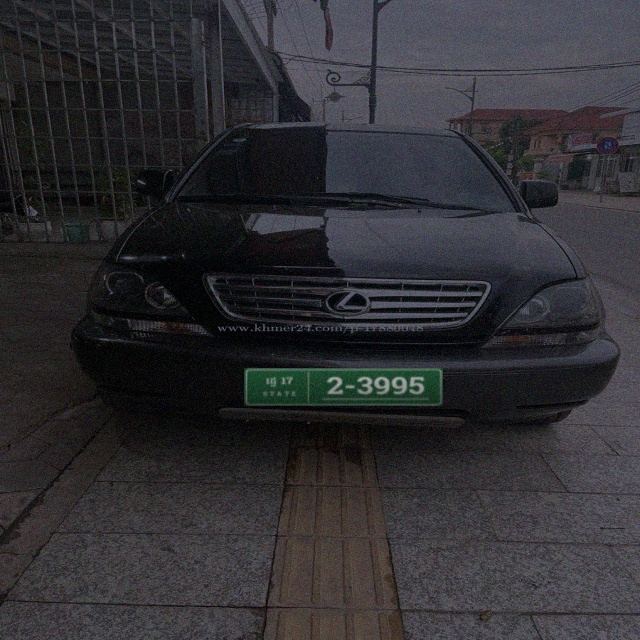Plate Number: (244, 368, 443, 407)
